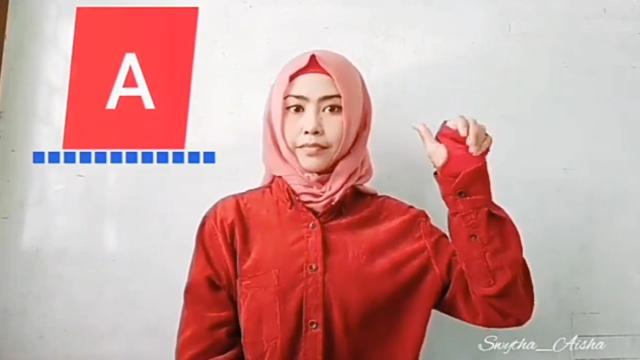A: (413, 97, 495, 183)
